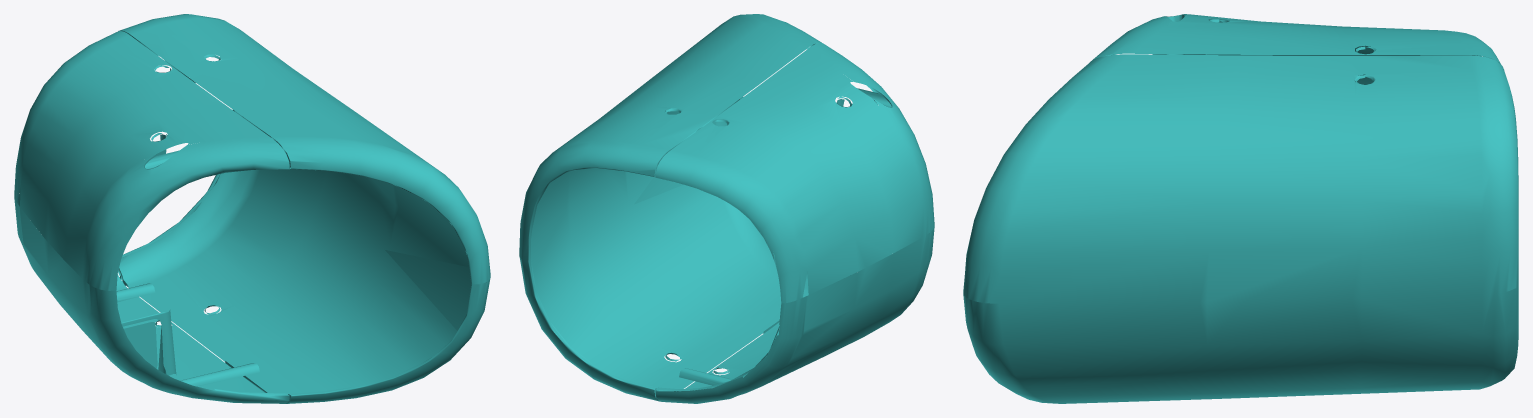
File: sim_icub3_r_hip_3.obj
3 views of the same model, side by side, from view 1: azimuth 30°, elevation 25°; view 2: azimuth 150°, elevation 25°; view 3: azimuth 270°, elevation 25° (orthographic). The views are drawn at different scales.
Size of the model in its own units: 169 by 134 by 217.
